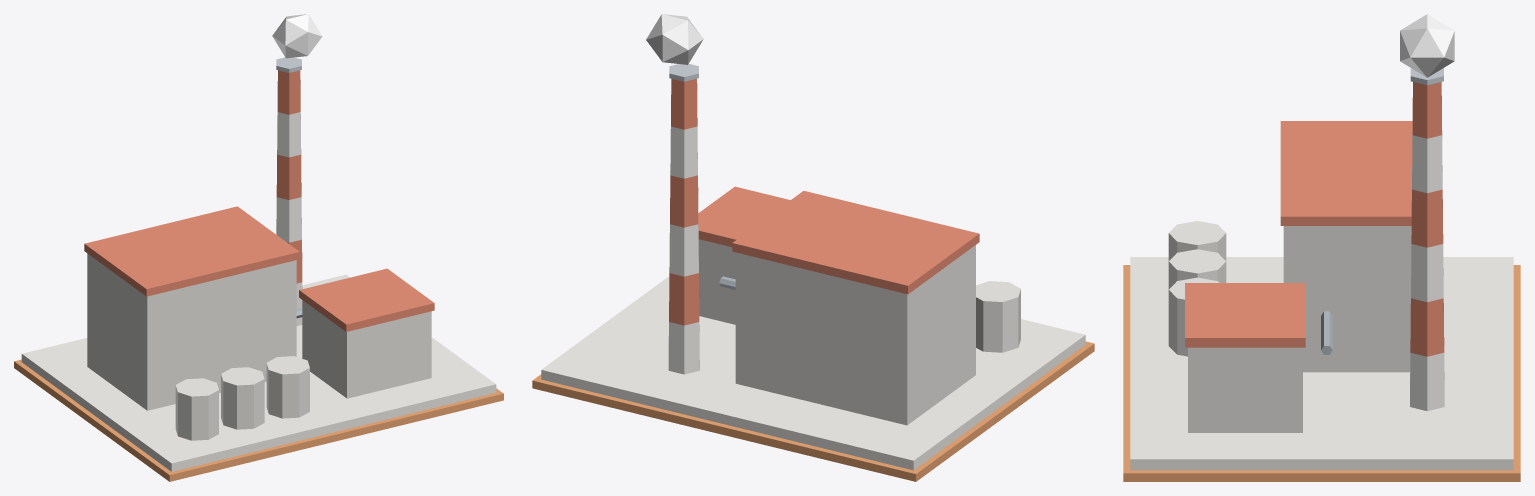
Rendered from gas_low.glb.
3 renders of one model, left to right at view 1: azimuth 30°, elevation 25°; view 2: azimuth 150°, elevation 25°; view 3: azimuth 270°, elevation 25°, orthographic. The views are drawn at different scales.
Visible parts, largest first — view 1: concrete, red, base, tank, rim_e5672f, white, steam; view 2: concrete, base, red, rim_e5672f, white, tank, steam; view 3: base, red, concrete, rim_e5672f, white, tank, steam, pipe.
Boxes of the visible parts, x1,y1,x2,y2 form: concrete: (87, 253, 431, 410); red: (84, 70, 434, 331); base: (21, 274, 496, 471); tank: (175, 356, 309, 440); rim_e5672f: (14, 359, 503, 481); white: (276, 112, 302, 325); steam: (272, 14, 322, 58); concrete: (698, 239, 975, 425); base: (541, 276, 1085, 470); red: (669, 78, 979, 325); rim_e5672f: (532, 341, 1094, 481); white: (668, 126, 699, 374); tank: (976, 281, 1020, 352); steam: (646, 14, 703, 64); base: (1130, 257, 1513, 470); red: (1185, 82, 1444, 356); concrete: (1188, 226, 1411, 432); rim_e5672f: (1123, 265, 1520, 481); white: (1410, 130, 1444, 411); tank: (1168, 221, 1226, 356); steam: (1400, 14, 1454, 77); pipe: (1321, 311, 1332, 354).
Bounding box in the file's own units: 10.3 × 9.36 × 8.3.
